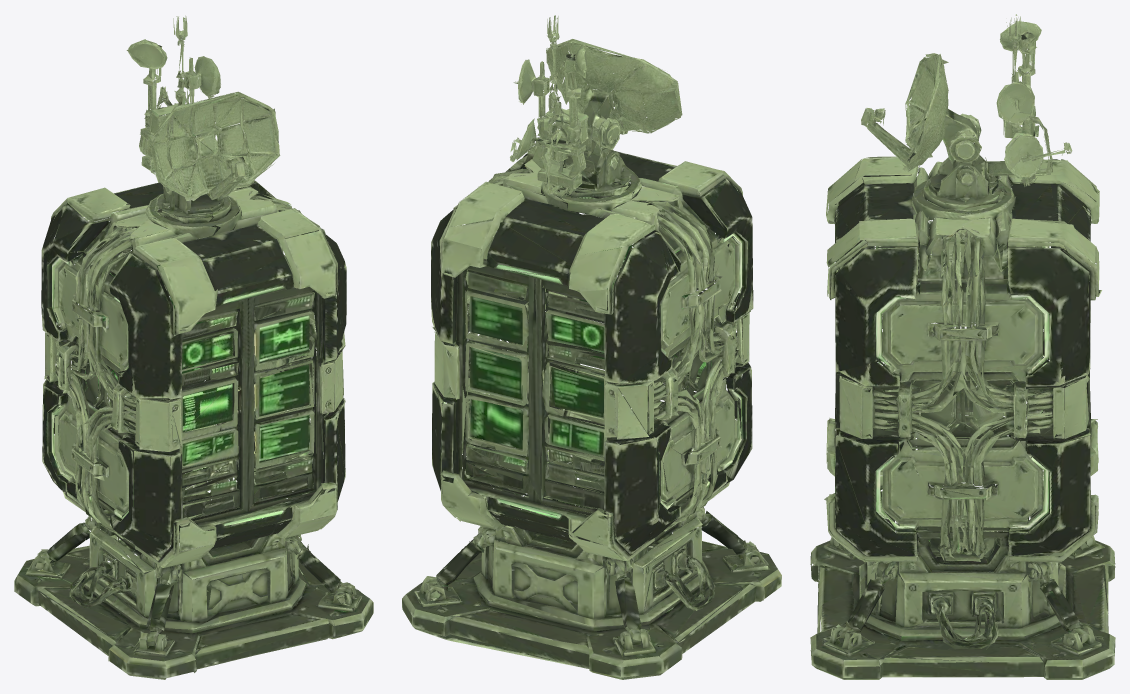
File: tower_uplink_p0_t5.glb
The picture shows the model from 3 angles, left to right: view 1: azimuth 30°, elevation 25°; view 2: azimuth 150°, elevation 25°; view 3: azimuth 270°, elevation 25°; orthographic projection. The views are drawn at different scales.
Parts seen in each view (by area): view 1: base, head; view 2: base, head; view 3: base, head.
Part boxes in pixels (bbox=[...]): base: bbox=[14, 102, 373, 679]; head: bbox=[126, 15, 277, 157]; base: bbox=[402, 66, 781, 679]; head: bbox=[513, 15, 679, 123]; base: bbox=[810, 76, 1115, 679]; head: bbox=[915, 14, 1041, 139].
Bounding box in the file's own units: 0.7811 × 1.72 × 0.7781.
Materials: 1 (1 with a texture image).
